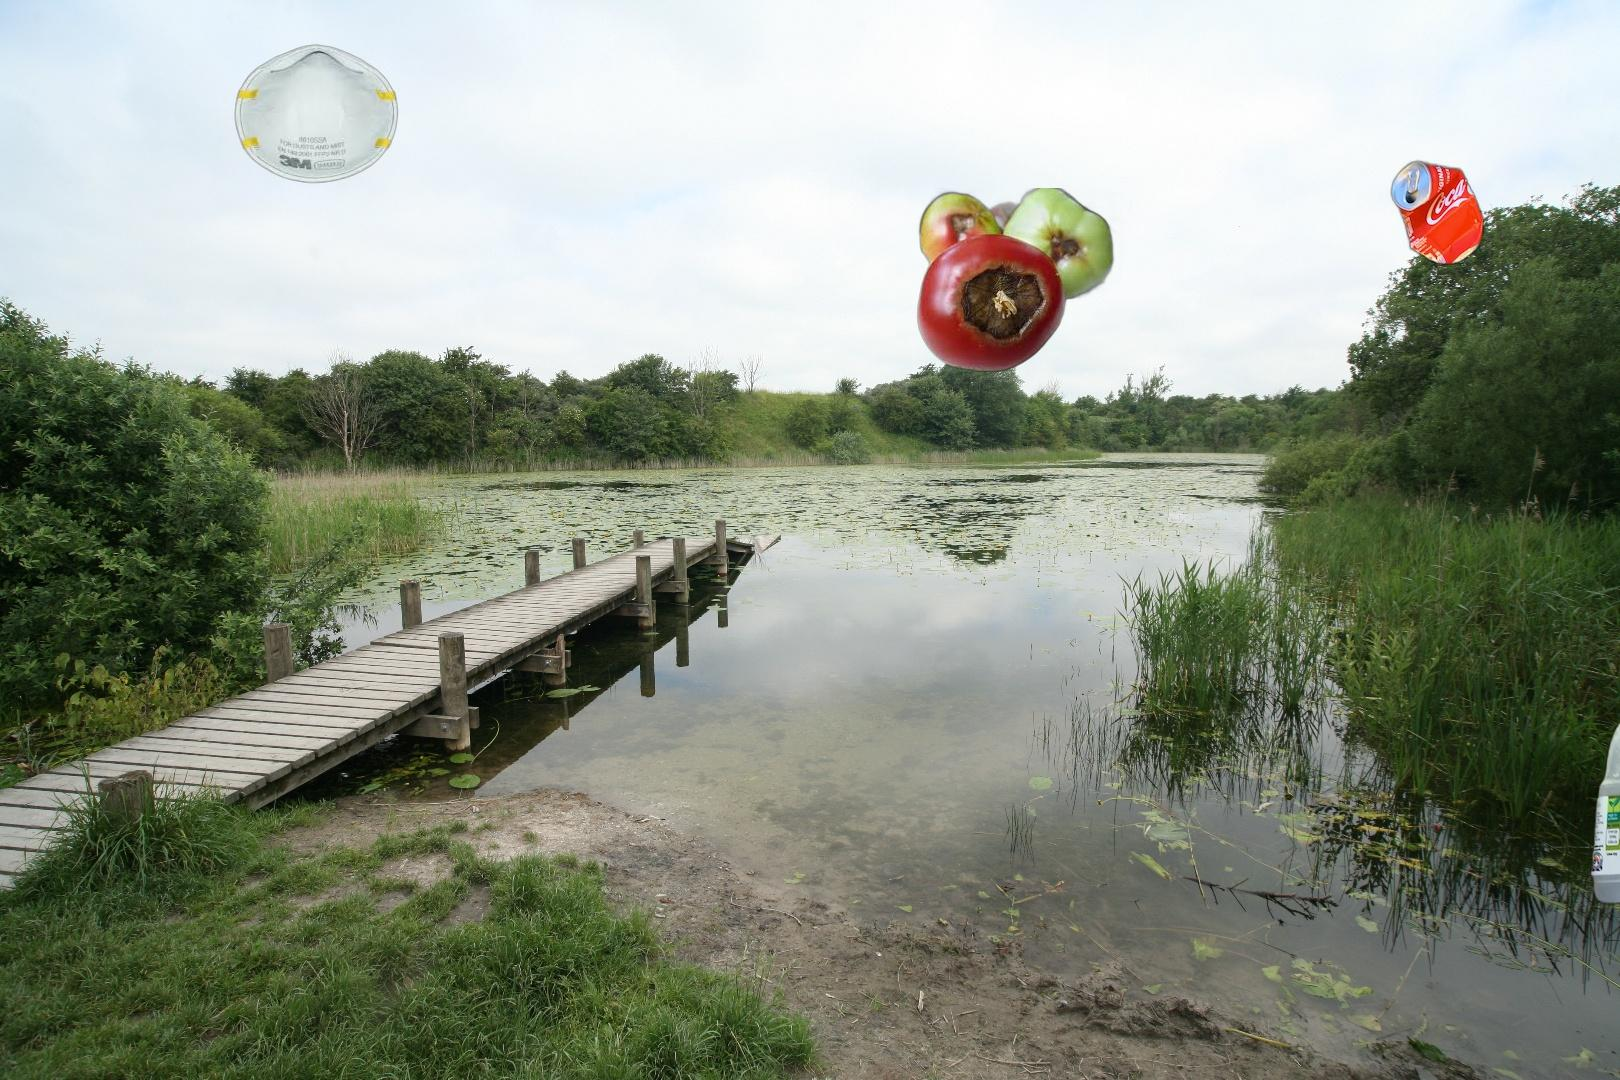biological: (914, 188, 1132, 375)
metal-cans: (1387, 155, 1489, 271)
plastic-bottles: (1587, 679, 1620, 910)
trash: (231, 42, 401, 186)
